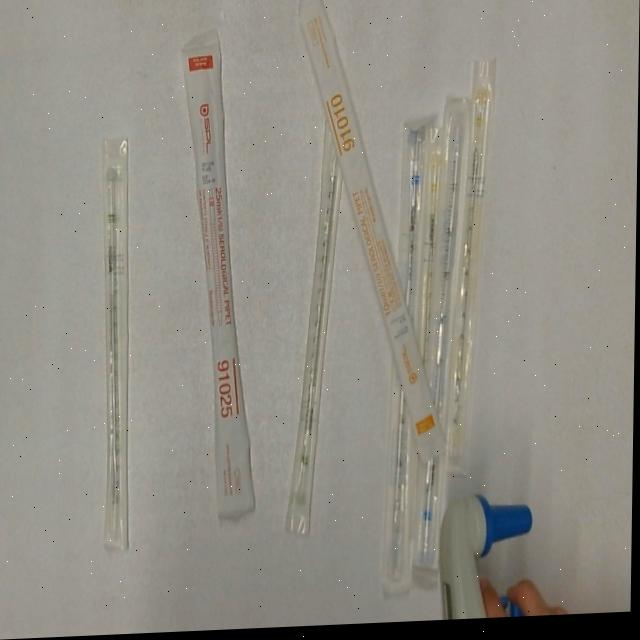Pipette Controller: (435, 492, 565, 625)
Serelogical Pipet 1 mL - Sealed: (461, 54, 495, 466), (412, 129, 452, 394)
Serelogical Pipet 10 mL - Sealed: (290, 0, 455, 473)
Serelogical Pipet 2 mL - Sealed: (283, 113, 354, 543), (97, 130, 140, 560)
Serelogical Pipet 25 mL - Sealed: (176, 26, 279, 527)
Serelogical Pipet 5 mL - Sealed: (414, 99, 472, 577), (381, 117, 427, 600)
